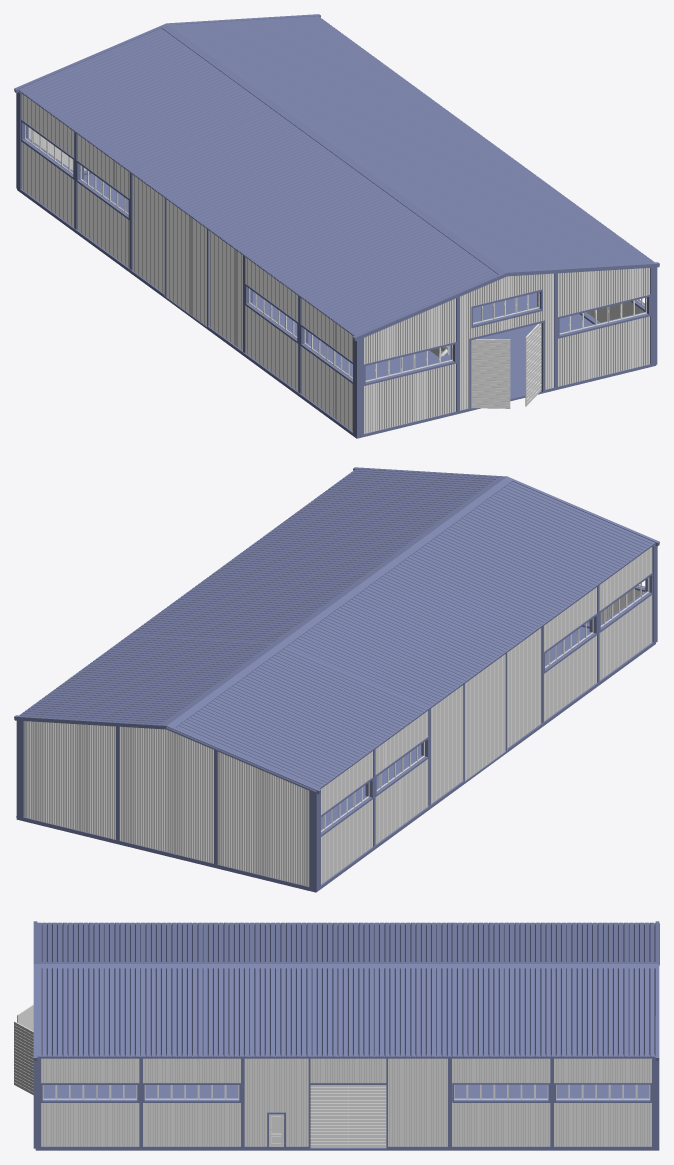
File: Sole.fbx
The picture shows the model from 3 angles, top to bottom: view 1: azimuth 30°, elevation 25°; view 2: azimuth 150°, elevation 25°; view 3: azimuth 270°, elevation 25°; orthographic projection. The views are drawn at different scales.
Visible parts, largest first — view 1: Box475; view 2: Box475; view 3: Box475.
Part boxes in pixels (x1,y1,x2,y2): Box475: (14,14,659,438); Box475: (14,467,659,892); Box475: (14,921,659,1150).
Bounding box in the file's own units: 98.98 × 41.12 × 198.
